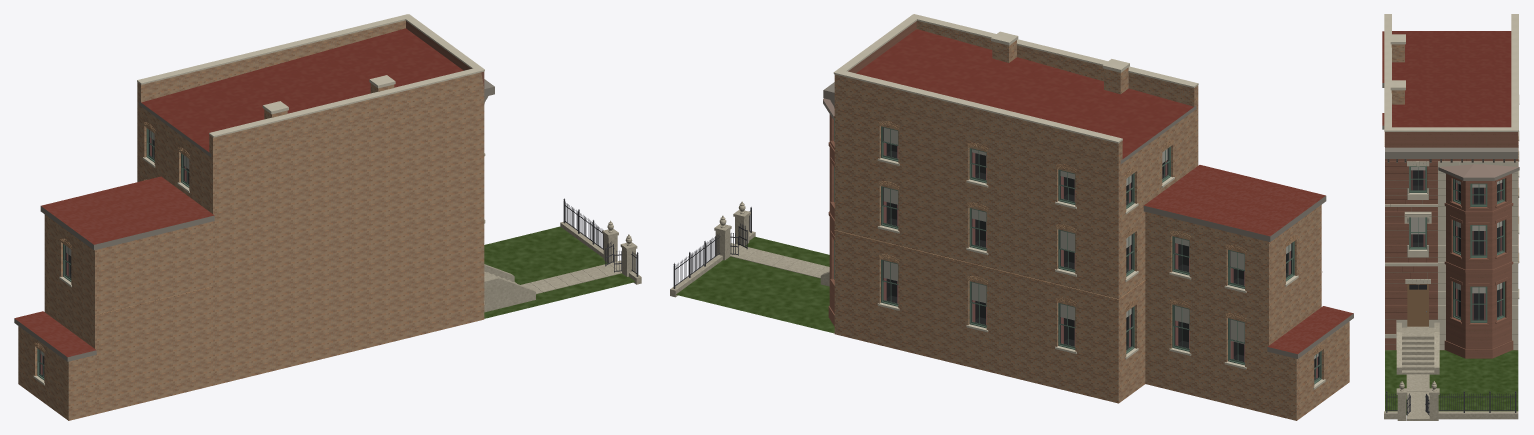
File: house_1634_prairie__as_mapped_1904.glb
3 views of the same model, side by side, from view 1: azimuth 30°, elevation 25°; view 2: azimuth 150°, elevation 25°; view 3: azimuth 270°, elevation 25° (orthographic). The views are drawn at different scales.
Visible parts, largest first — view 1: house_1634_prairie__as_mapped_1904; view 2: house_1634_prairie__as_mapped_1904; view 3: house_1634_prairie__as_mapped_1904.
Boxes of the visible parts, x1=… form: house_1634_prairie__as_mapped_1904: x1=14, y1=14, x2=641, y2=420; house_1634_prairie__as_mapped_1904: x1=670, y1=14, x2=1353, y2=420; house_1634_prairie__as_mapped_1904: x1=1382, y1=14, x2=1519, y2=420.
Size of the model in its own units: 32.96 by 14.08 by 7.67.
Materials: 24 (13 with a texture image).
